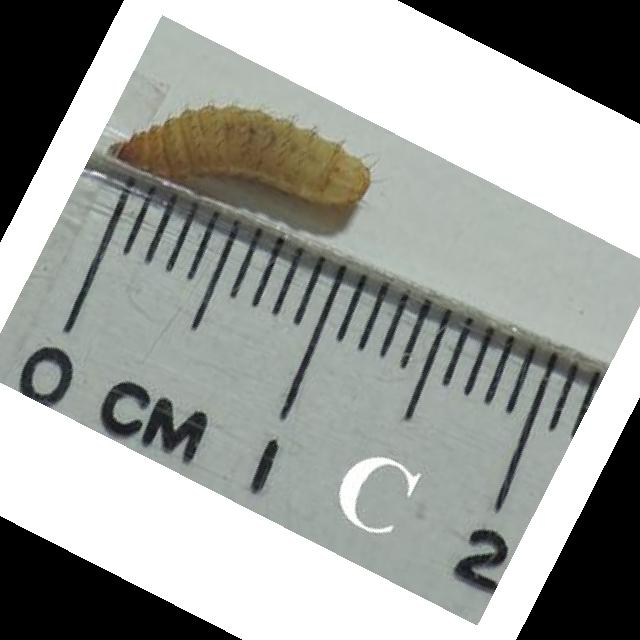Maggot: (106, 100, 374, 210)
